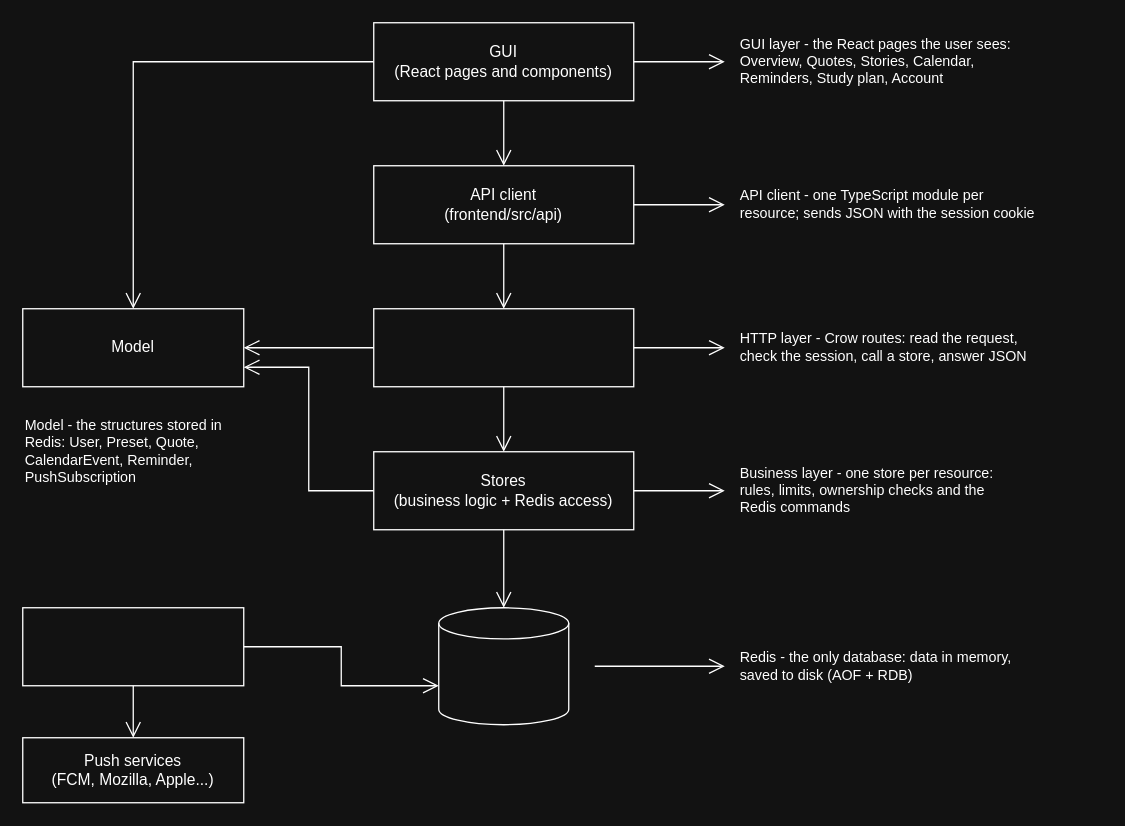
Some shapes in this 1125 by 826 pixel diagram are drawn without their labels. The centre of each missing label's shape, as x and y in pixels:
"HTTP routes (C++, Crow)" goes at point (503, 347).
"Redis DB" goes at point (503, 665).
"Reminder scheduler + Web Push sender" goes at point (132, 646).
